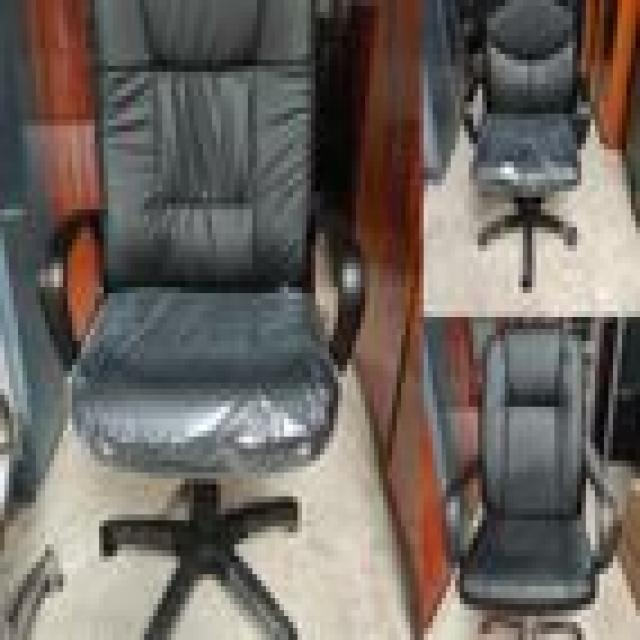others: (22, 6, 378, 640), (423, 6, 640, 640)
